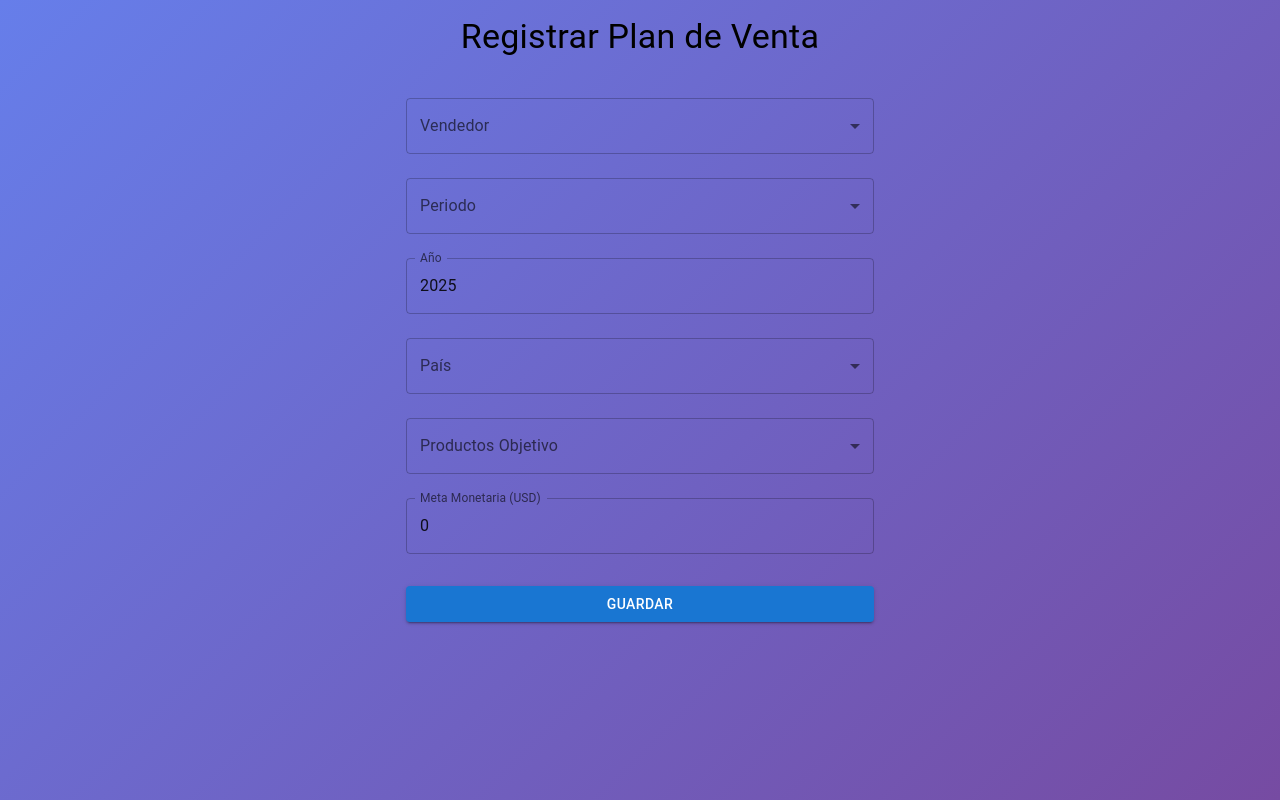
Test: PlanVentaForm › Carga inicial y datos desde API › carga y muestra vendedores activos (filtra inactivos)
Note: Hacer clic para abrir el menú
Click the dropdown named "Vendedor" next to "Vendedor" at (640, 126), box [406,98,874,154]
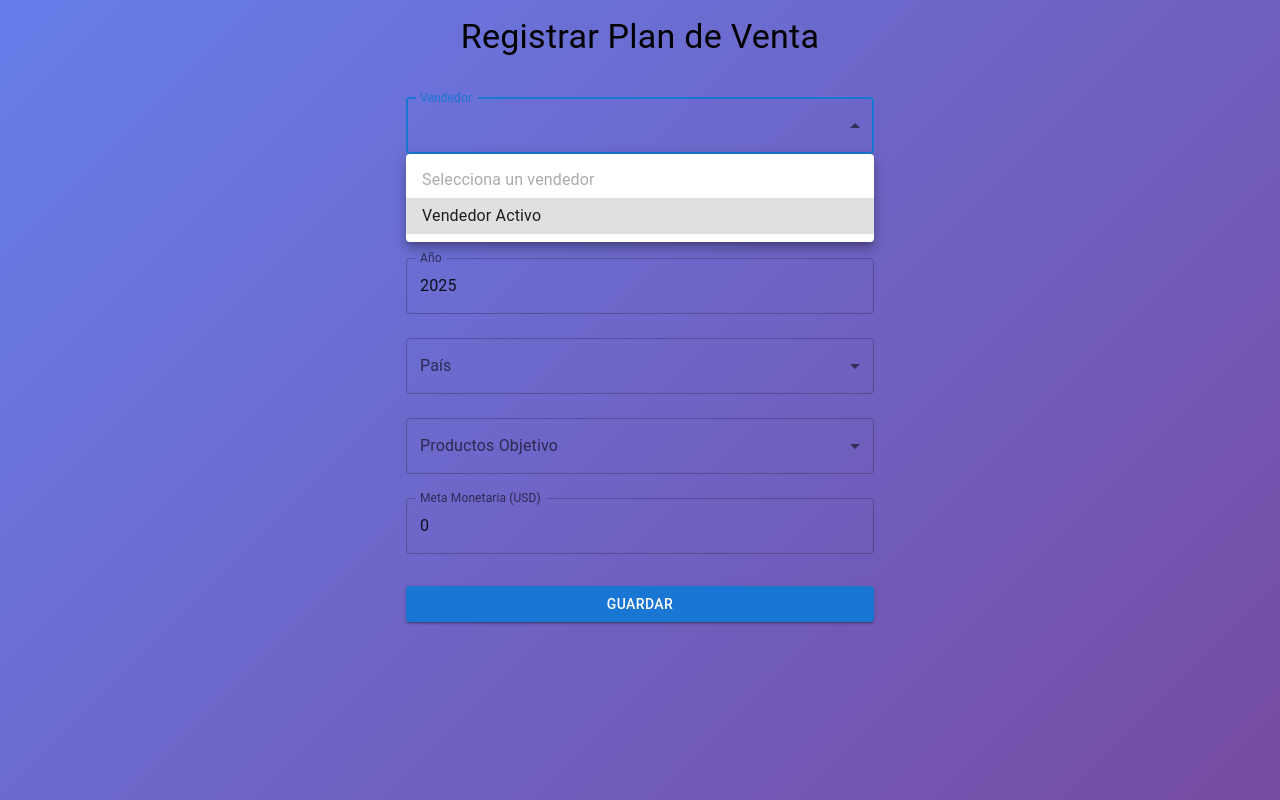
expect the option "Vendedor Activo" is shown: met, box [406,198,874,234]
